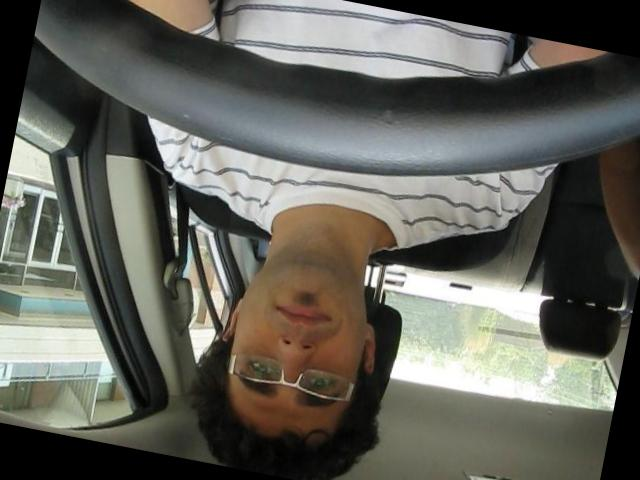eye_open: (241, 355, 284, 384), (301, 371, 339, 396)
face: (213, 250, 380, 441)
